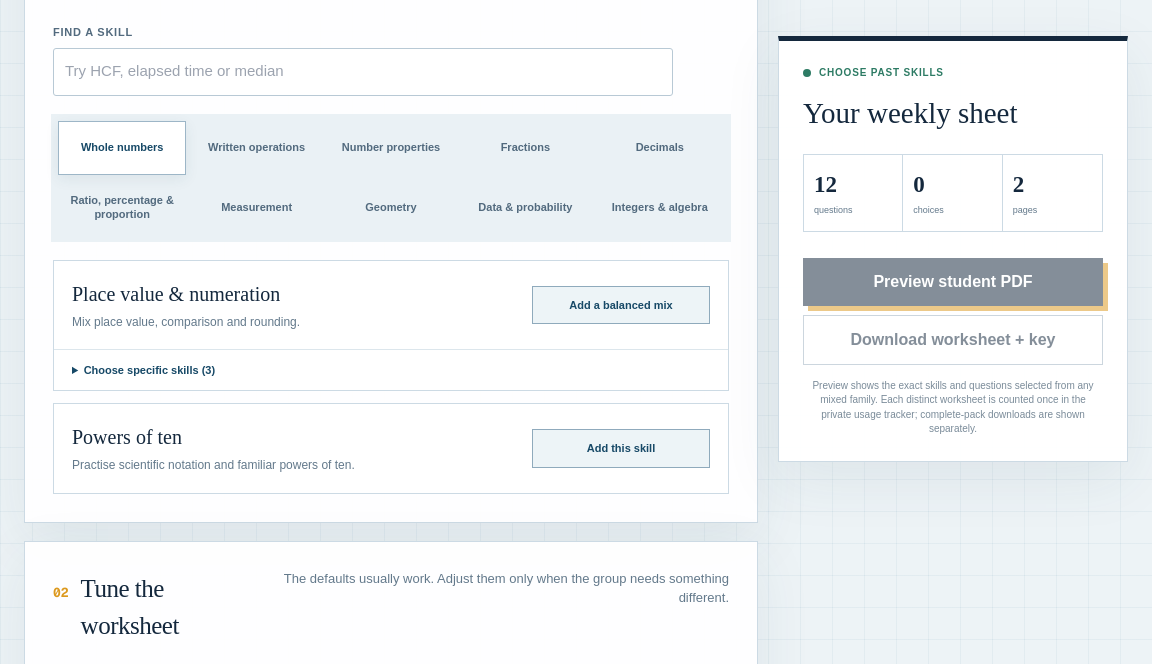
it: weekly worksheet teacher workflow › opens with sensible sheet defaults but asks the teacher to choose content
(page scrolled)
Expected: the button "Preview student PDF" is disabled, [803,258,1103,306]
Click the button "Add a balanced mix" at (621, 305), box [532,286,710,324]
(page scrolled)
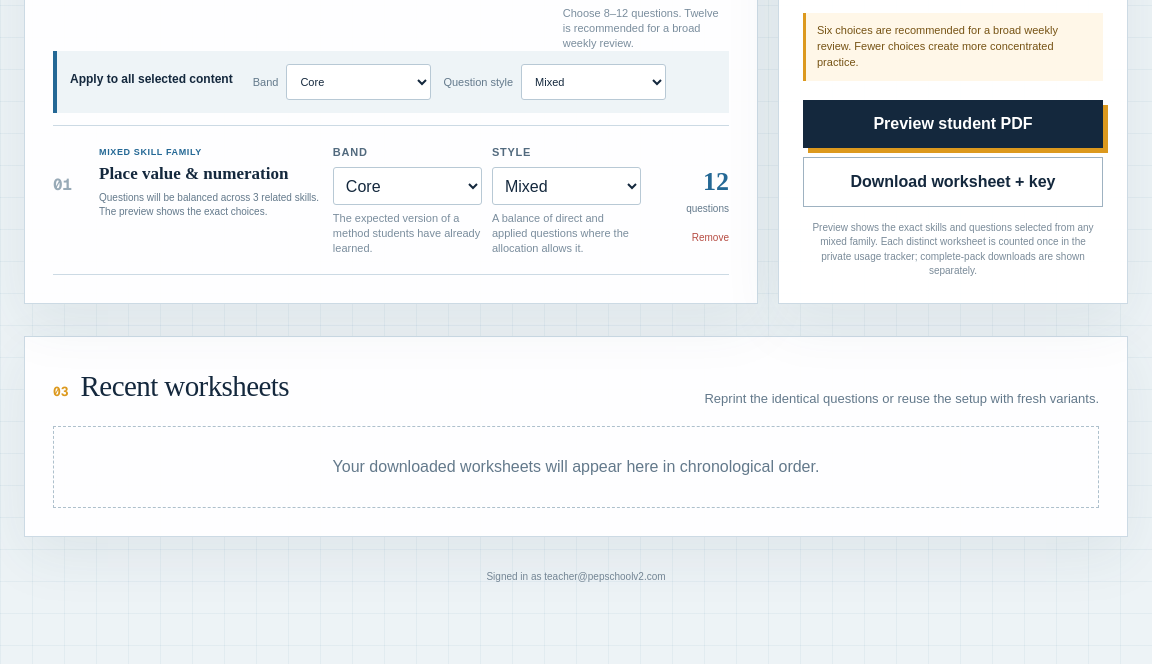
Expected: the heading "Recent worksheets" is shown, [81,365,289,408]
Expected: the button "Preview student PDF" is enabled, [803,100,1103,148]
